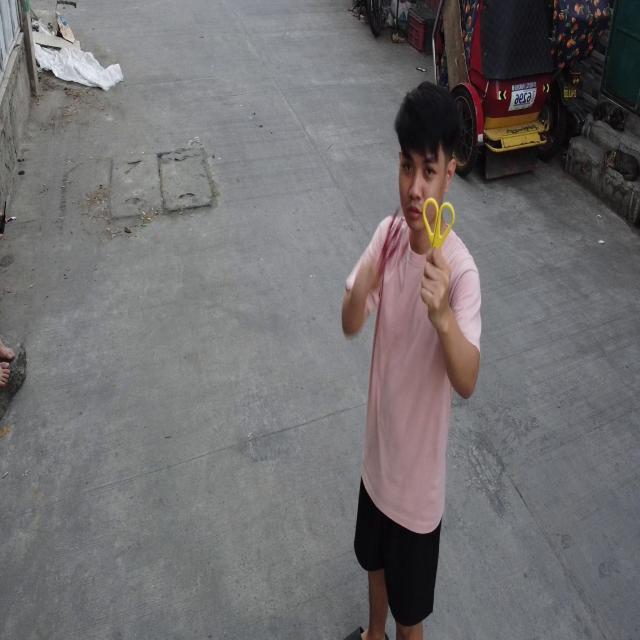scissor: (423, 198, 455, 269)
